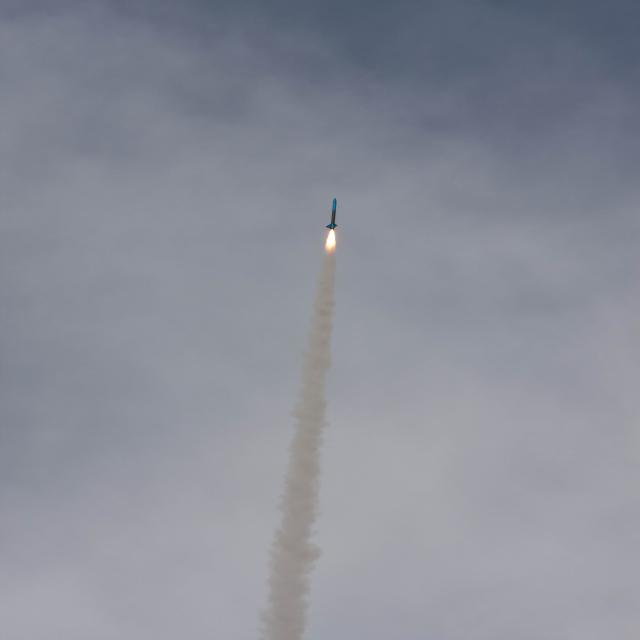Rocket: (325, 198, 338, 230)
